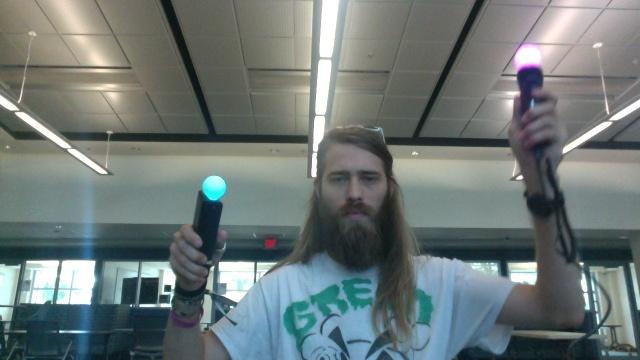wand: (515, 44, 542, 68), (203, 176, 226, 202)
